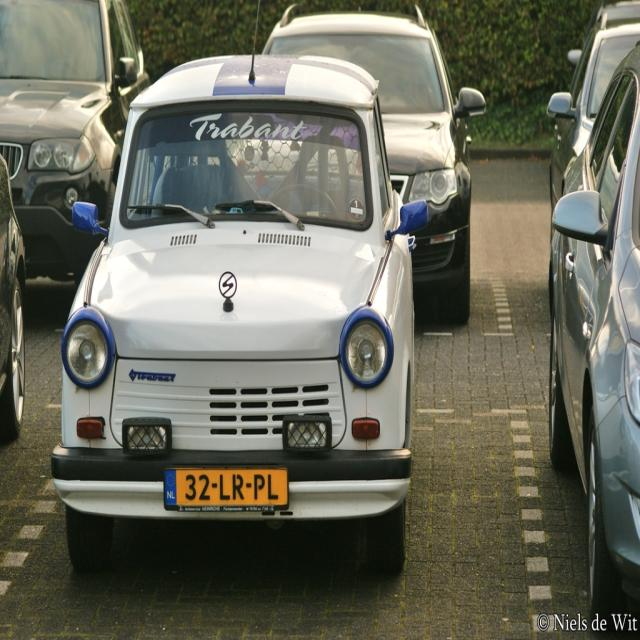car: (48, 22, 454, 602)
